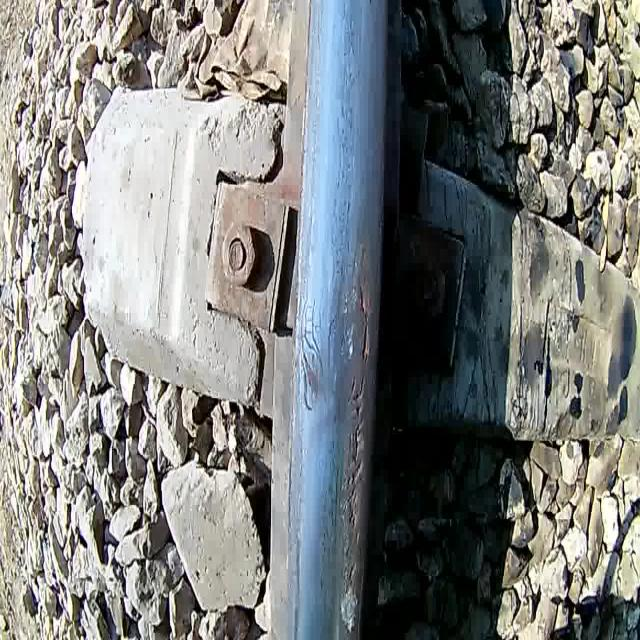Cracks: (289, 286, 340, 416)
Spallings: (342, 255, 383, 609)
